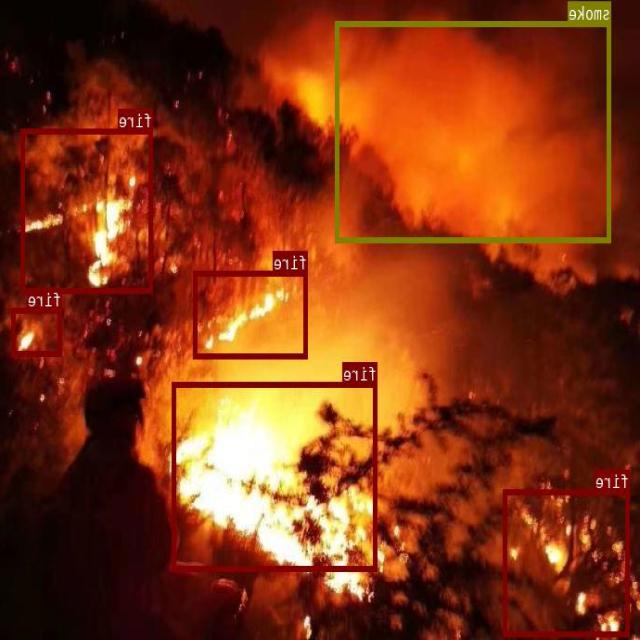fire: (173, 381, 378, 570), (22, 128, 153, 292), (504, 488, 631, 636), (194, 270, 309, 358), (13, 307, 63, 355)
smoke: (336, 20, 612, 242)
